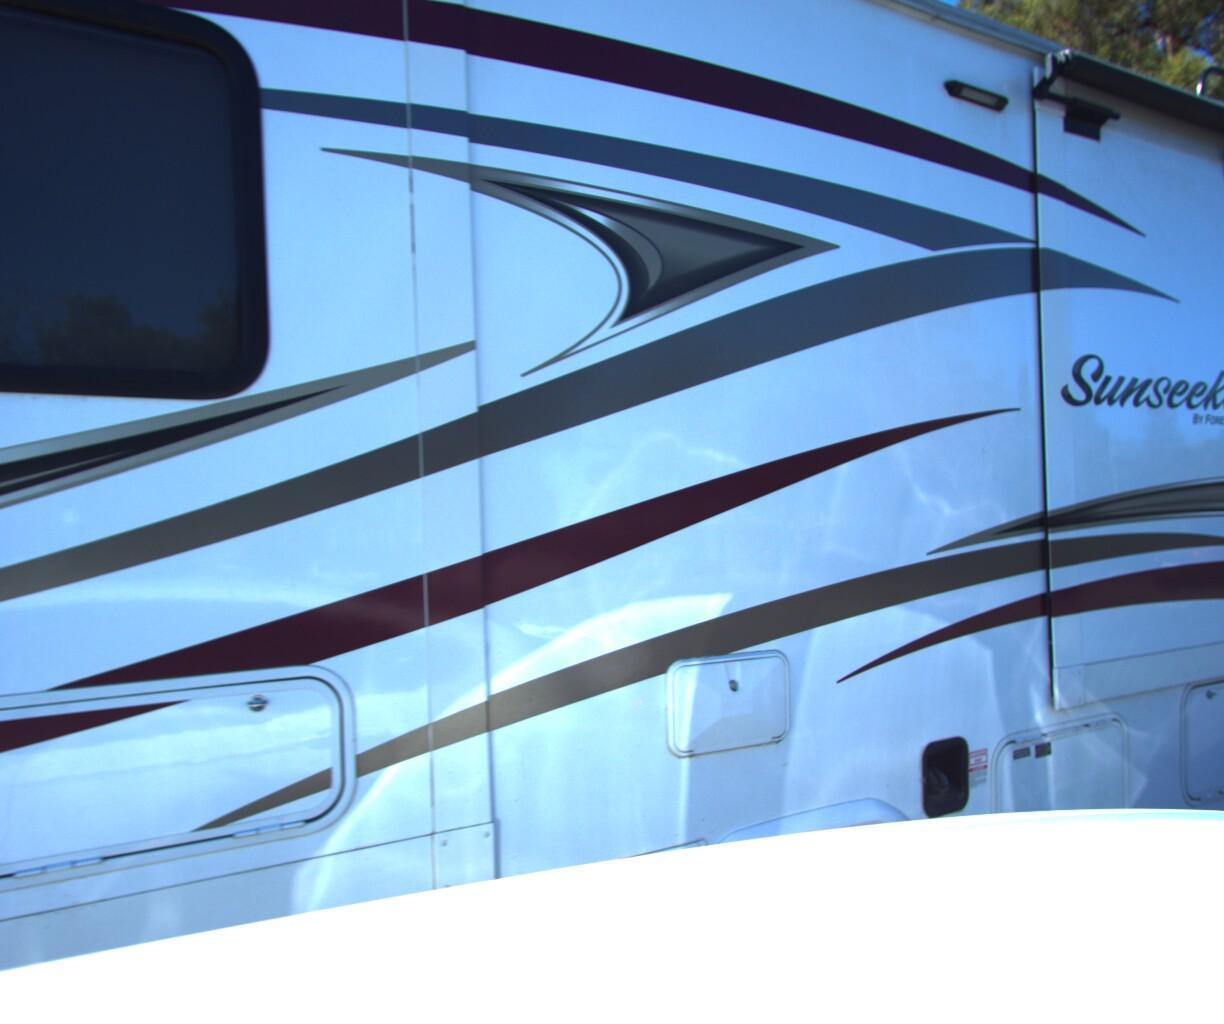car: (1020, 519, 1224, 859)
